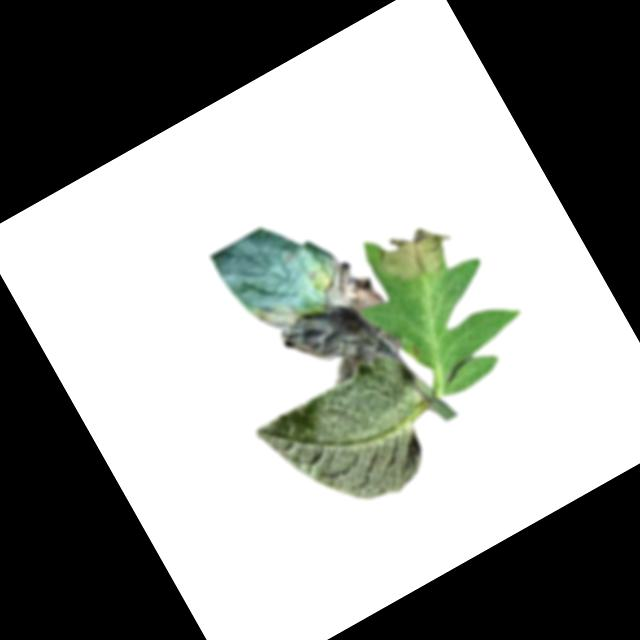Late_blight: (245, 244, 407, 406), (368, 208, 466, 298)
